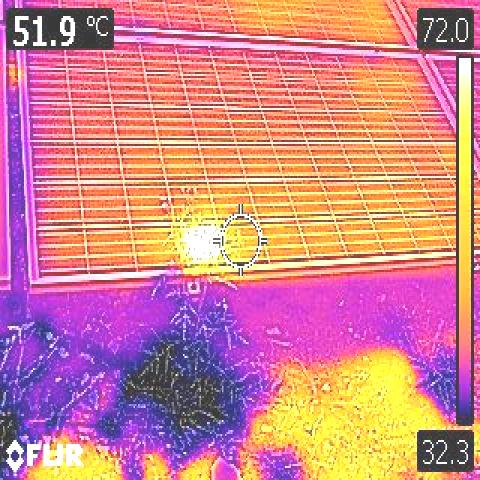fault: (181, 225, 220, 258)
